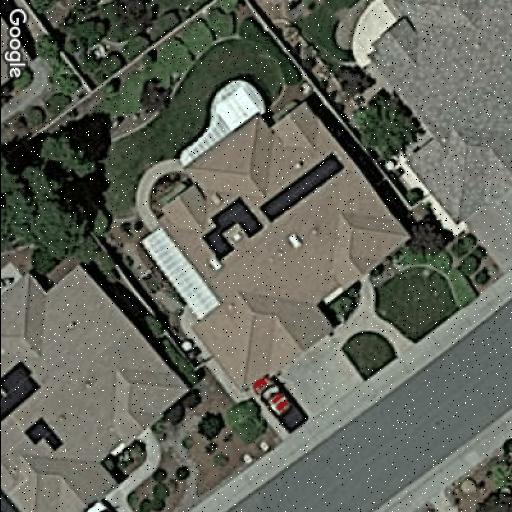solar-panel: (254, 150, 346, 226), (198, 194, 264, 264), (0, 359, 44, 424), (25, 407, 65, 459)
